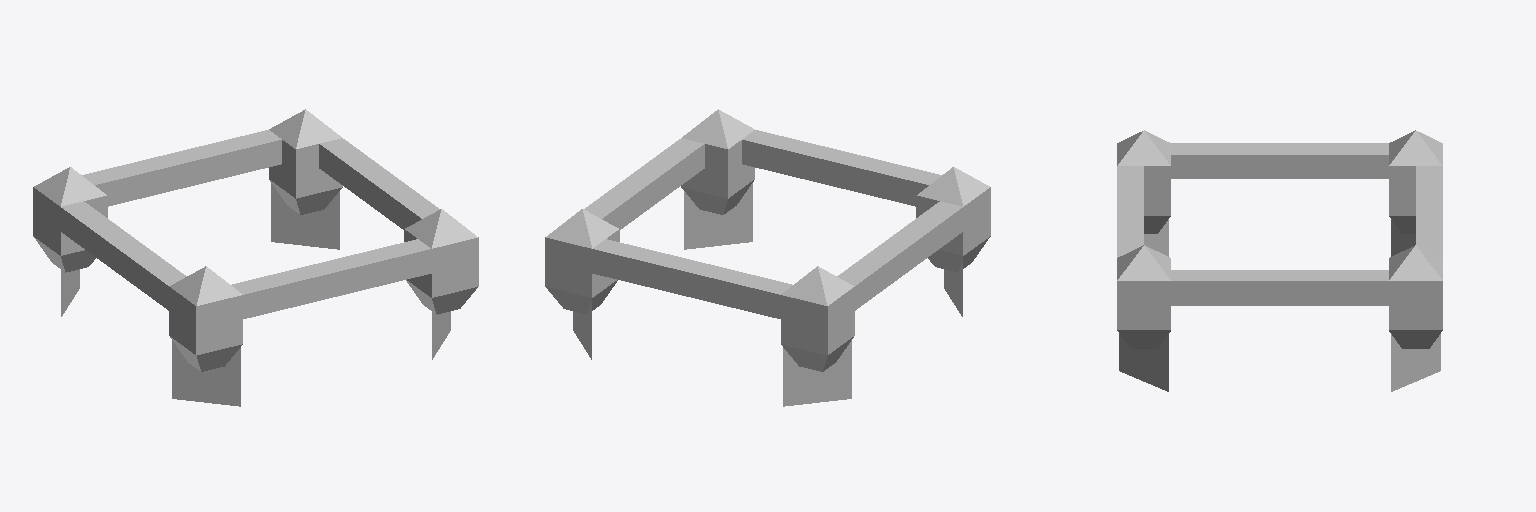
File: mana_crystal_ring.obj
The picture shows the model from 3 angles: view 1: azimuth 30°, elevation 25°; view 2: azimuth 150°, elevation 25°; view 3: azimuth 270°, elevation 25°; orthographic projection.
Visible parts, largest first — view 1: BINDING_RING_Cube.004; view 2: BINDING_RING_Cube.004; view 3: BINDING_RING_Cube.004.
Boxes of the visible parts, <box> form: BINDING_RING_Cube.004: <box>33,109,478,406</box>; BINDING_RING_Cube.004: <box>545,109,990,406</box>; BINDING_RING_Cube.004: <box>1117,130,1442,391</box>.
Bounding box in the file's own units: 0.75 × 0.3472 × 0.75.